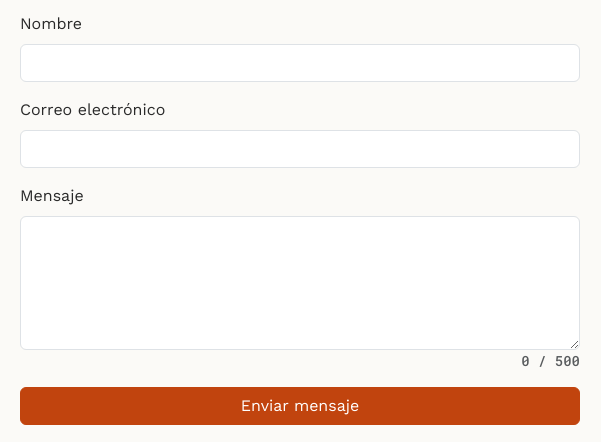
<FormularioContacto /> › actualiza el contador de caracteres mientras el usuario escribe
Type "Hola, tengo una consulta" into the text box labelled "Mensaje".
click(300, 283); type("Hola, tengo una consulta")  # box [20, 216, 580, 350]
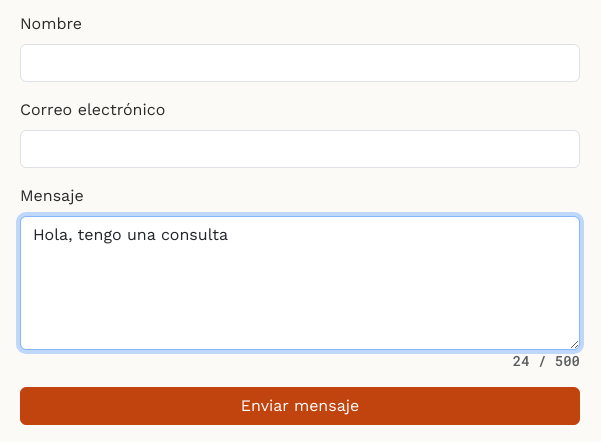
expect the text "24 / 500" is shown: met, box [513, 350, 580, 371]
